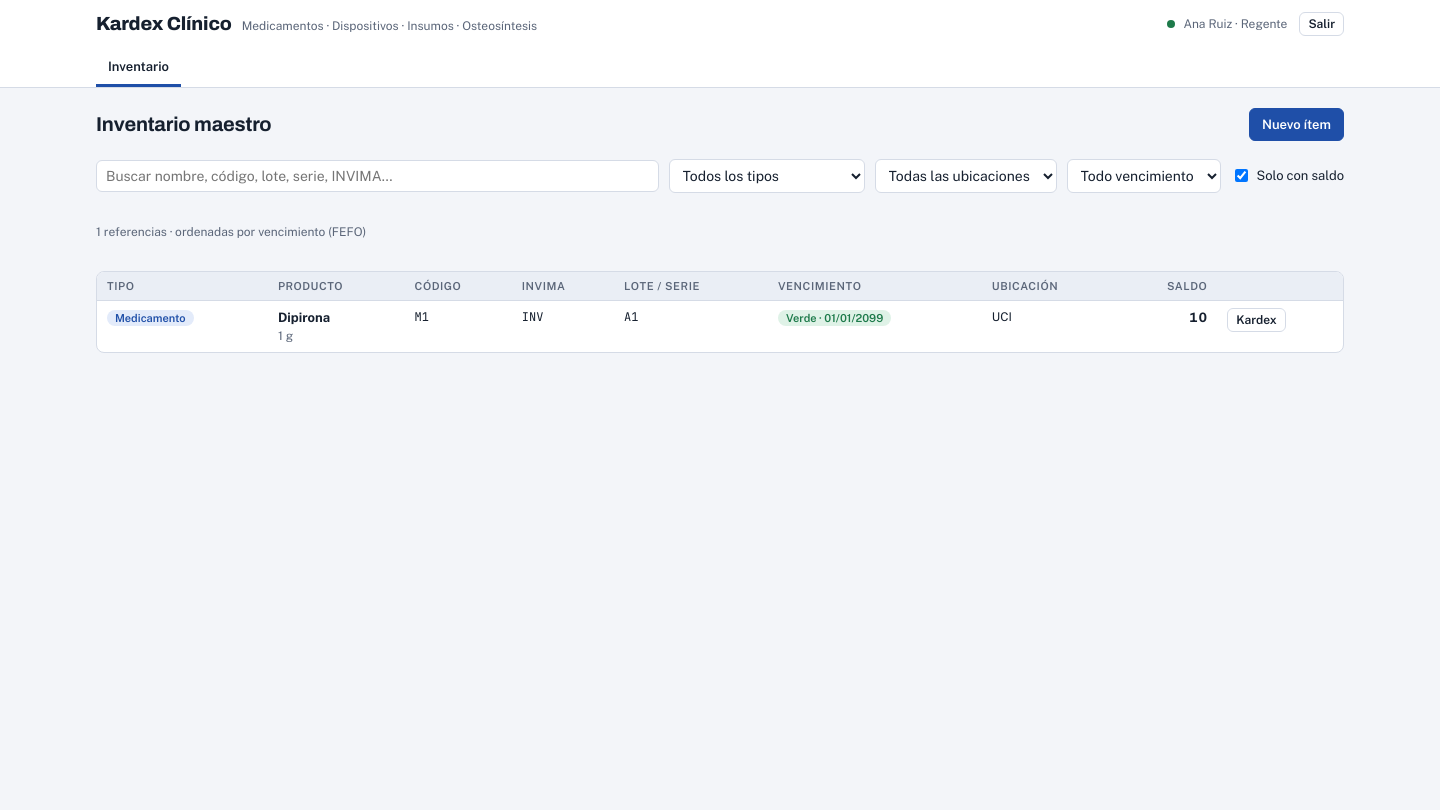
nuevo ítem que ya existe › avisa que la cantidad se sumó al existente y envía el soporte
This screenshot has width=1440, height=810.
Click the button "Nuevo ítem" at (1296, 124), box 1249,108 -> 1344,140
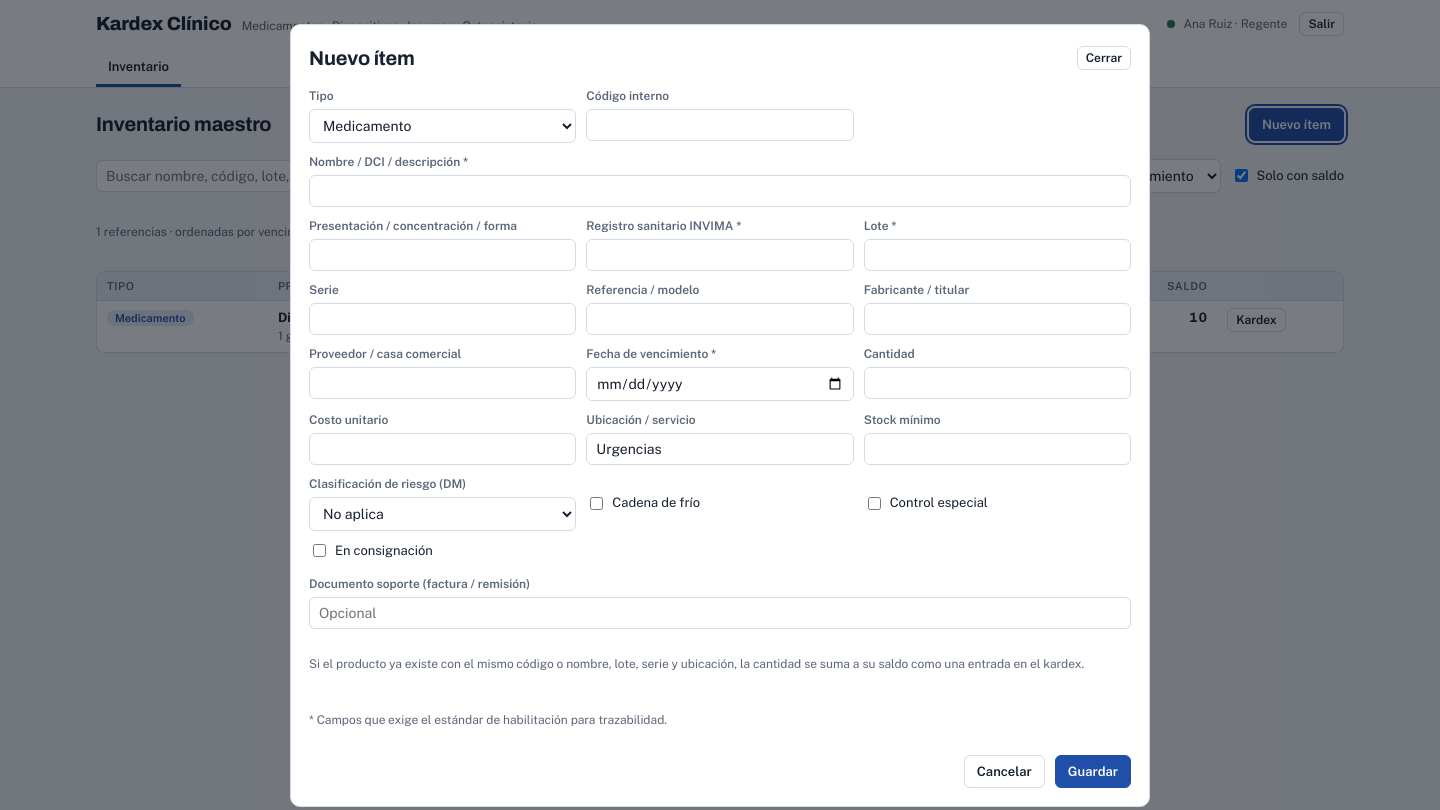
Type "Dipirona" into the field labelled "Nombre / DCI / descripción *" at (720, 191), box 309,175 -> 1131,207
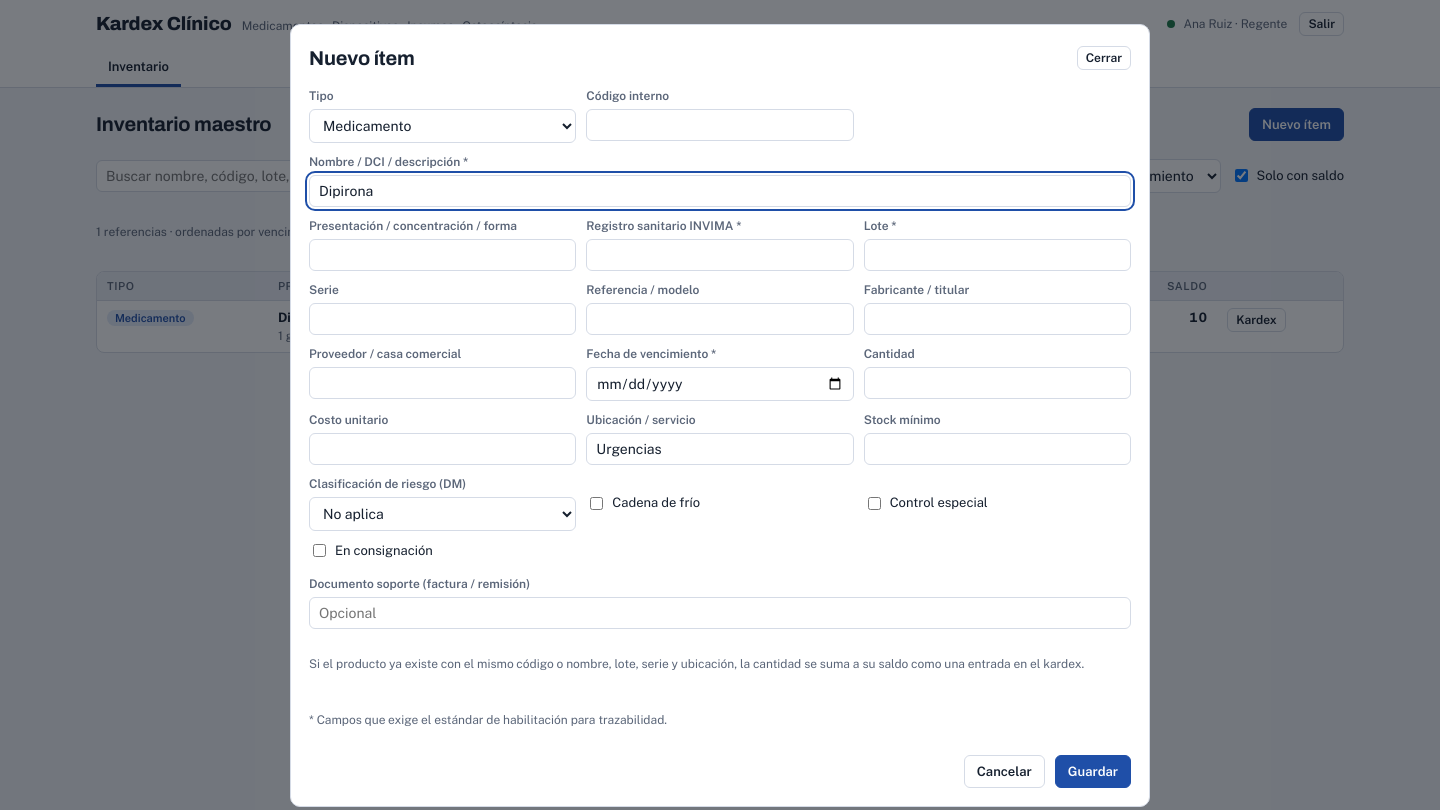
Type "5" into the number field labelled "Cantidad" at (997, 383), box 864,367 -> 1131,399
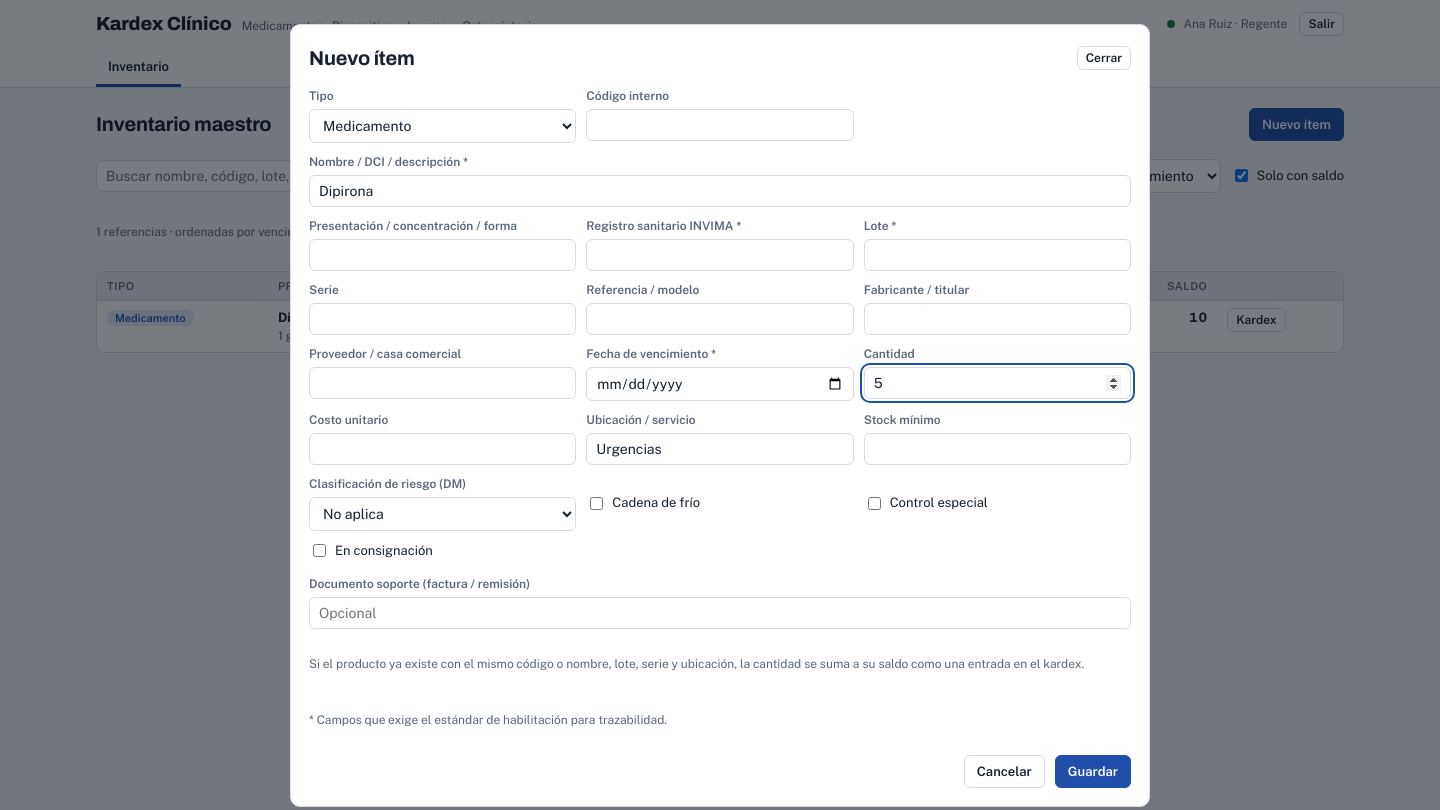
Type "FAC-9" into the field labelled "Documento soporte (factura / remisión)" at (720, 612), box 309,596 -> 1131,628
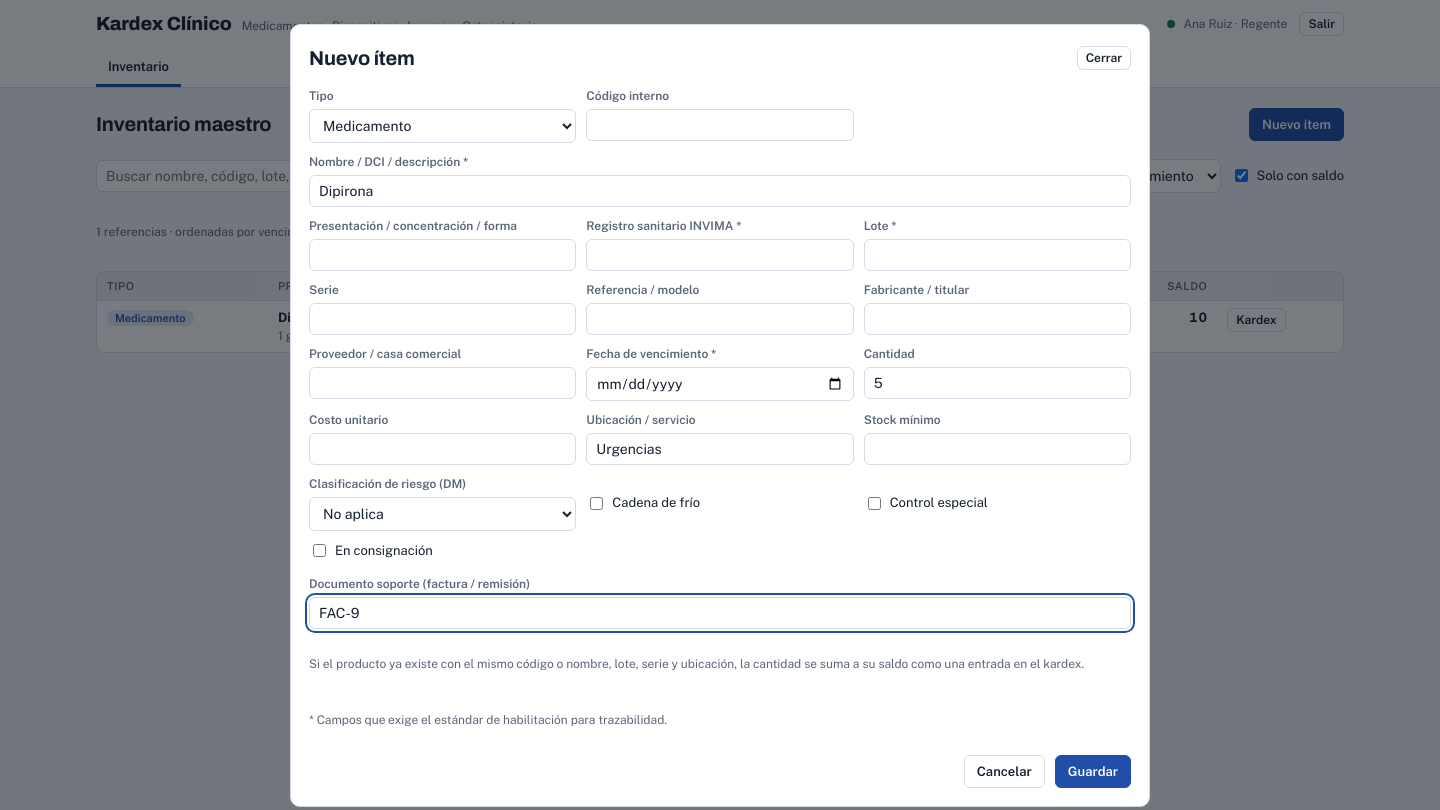
Click the button "Guardar" at (1093, 771), box 1055,754 -> 1131,788
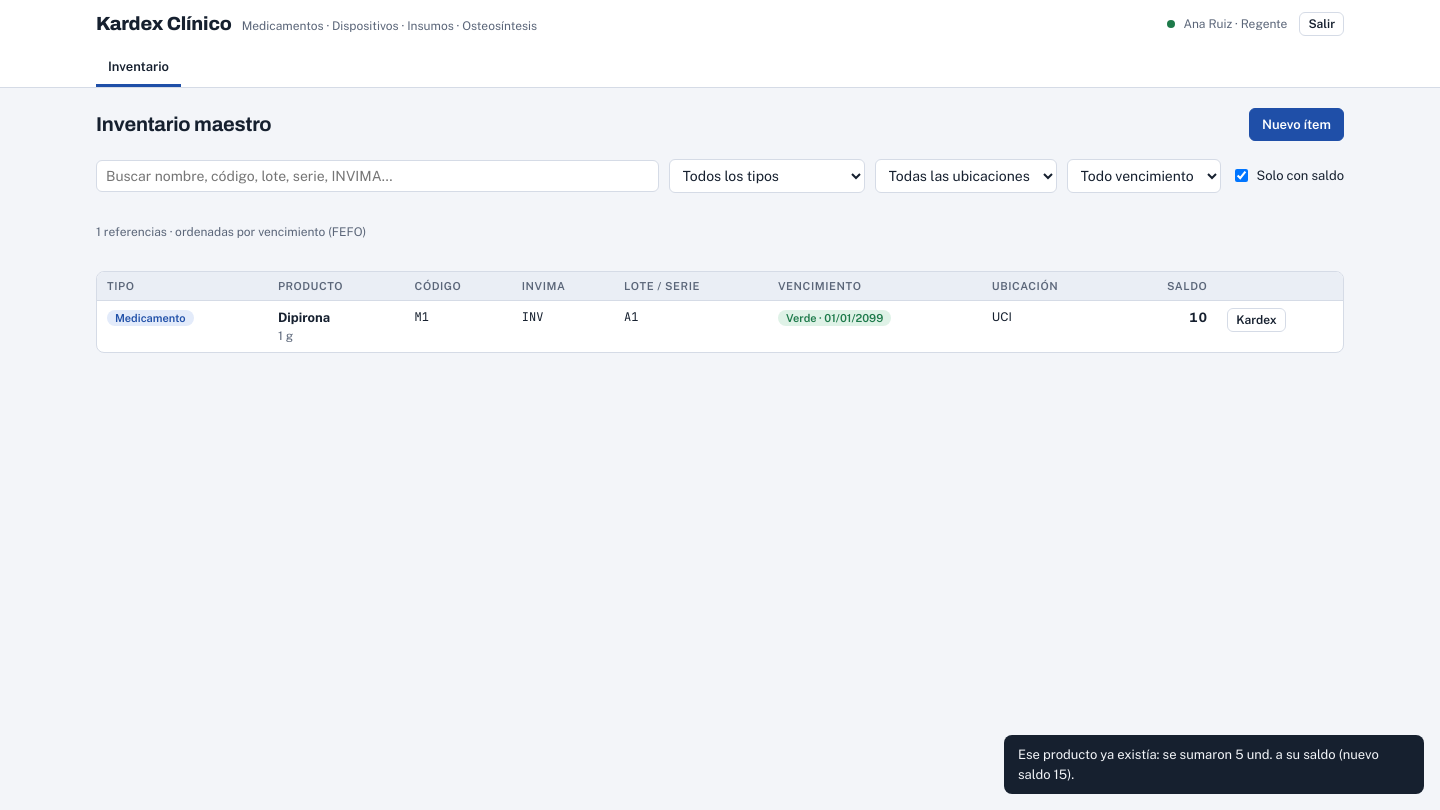
Expected: the message shows "se sumaron 5 und. a su saldo (nuevo saldo 15)", 1018,747 -> 1379,782
